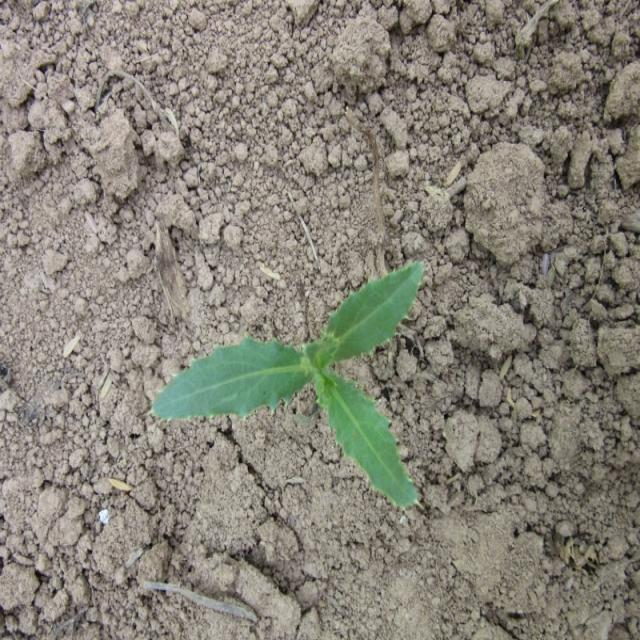field_thistle: (129, 265, 445, 513)
